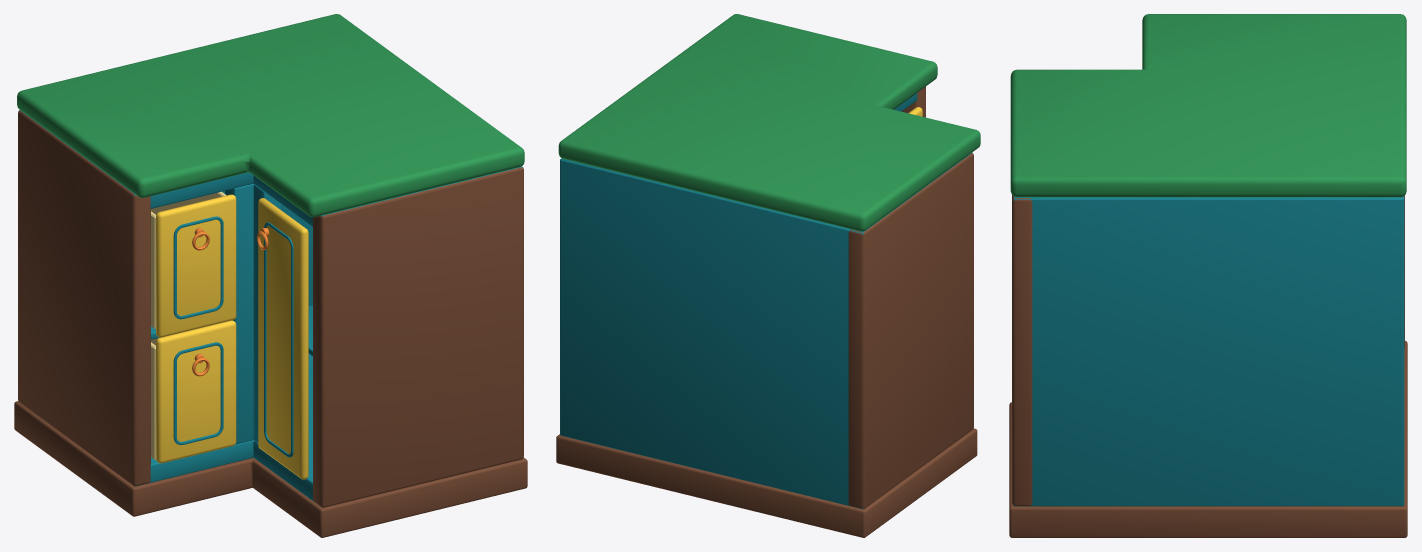
File: armario_cozinha_canto_colonial_mata.glb
3 renders of one model, left to right at view 1: azimuth 30°, elevation 25°; view 2: azimuth 150°, elevation 25°; view 3: azimuth 270°, elevation 25°, orthographic. The views are drawn at different scales.
Parts seen in each view (by area): view 1: armario_cozinha_canto_colonial_mata, porta_1, gaveta_1, gaveta_2; view 2: armario_cozinha_canto_colonial_mata; view 3: armario_cozinha_canto_colonial_mata.
Boxes of the visible parts, x1,y1,x2,y2 form: armario_cozinha_canto_colonial_mata: [14, 14, 527, 537]; porta_1: [257, 198, 308, 479]; gaveta_1: [151, 191, 236, 337]; gaveta_2: [151, 320, 236, 463]; armario_cozinha_canto_colonial_mata: [556, 14, 980, 537]; armario_cozinha_canto_colonial_mata: [1009, 14, 1407, 537].
Size of the model in its own units: 0.904 by 0.9 by 0.904.
Materials: 1 (1 with a texture image).
